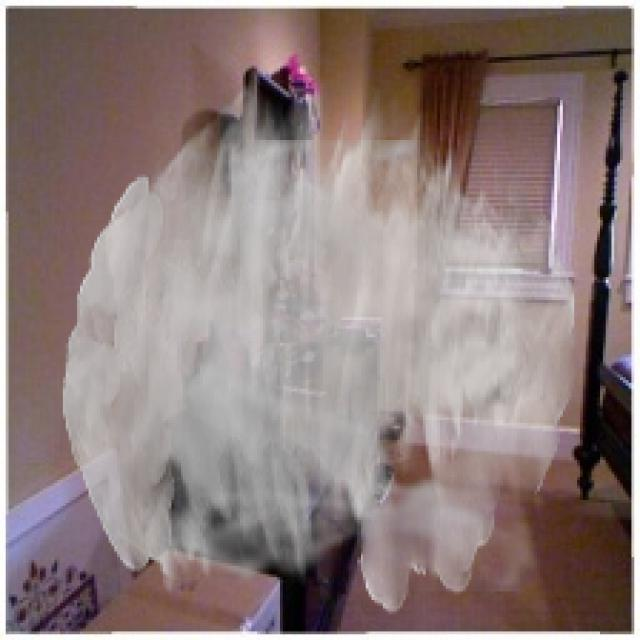smoke: (63, 77, 577, 614)
